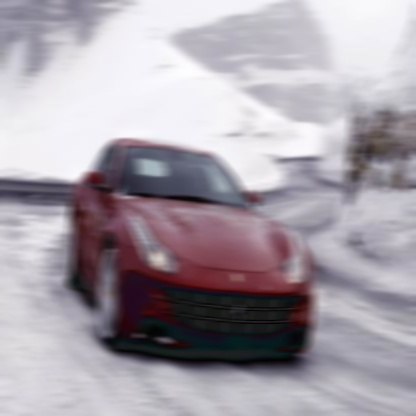Vehicle: (67, 132, 318, 364)
